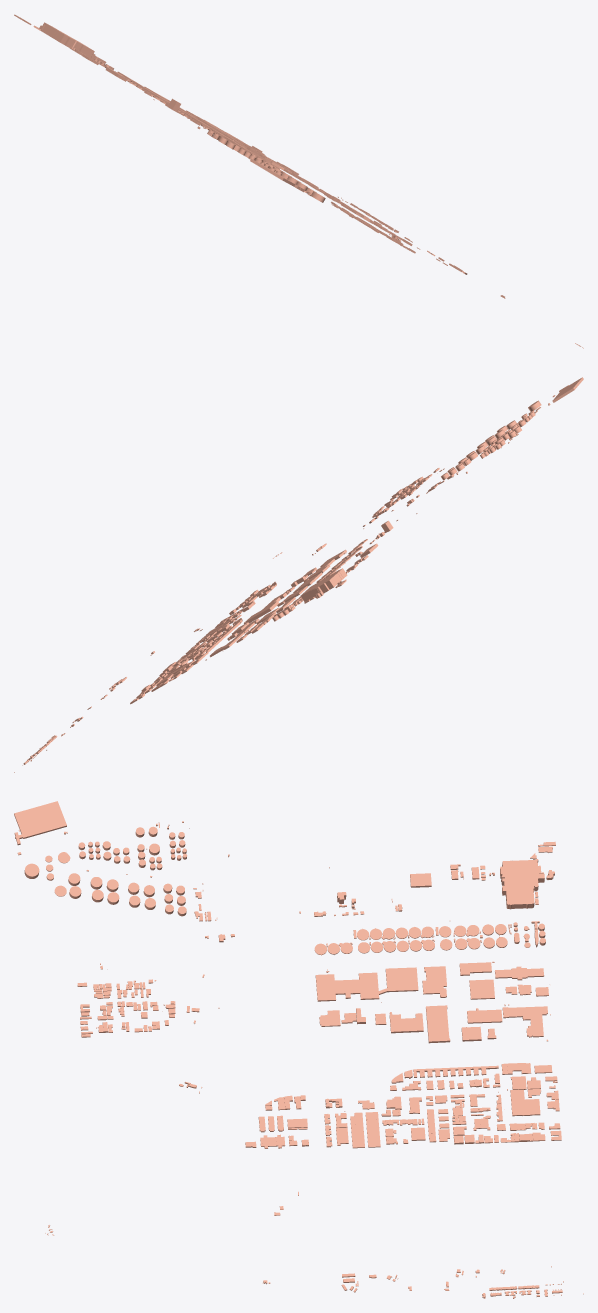
The picture shows the model from 3 angles, top to bottom: view 1: azimuth 30°, elevation 25°; view 2: azimuth 150°, elevation 25°; view 3: azimuth 270°, elevation 25°; orthographic projection. The views are drawn at different scales.
Size of the model in its own units: 1840 by 1542 by 2479.
